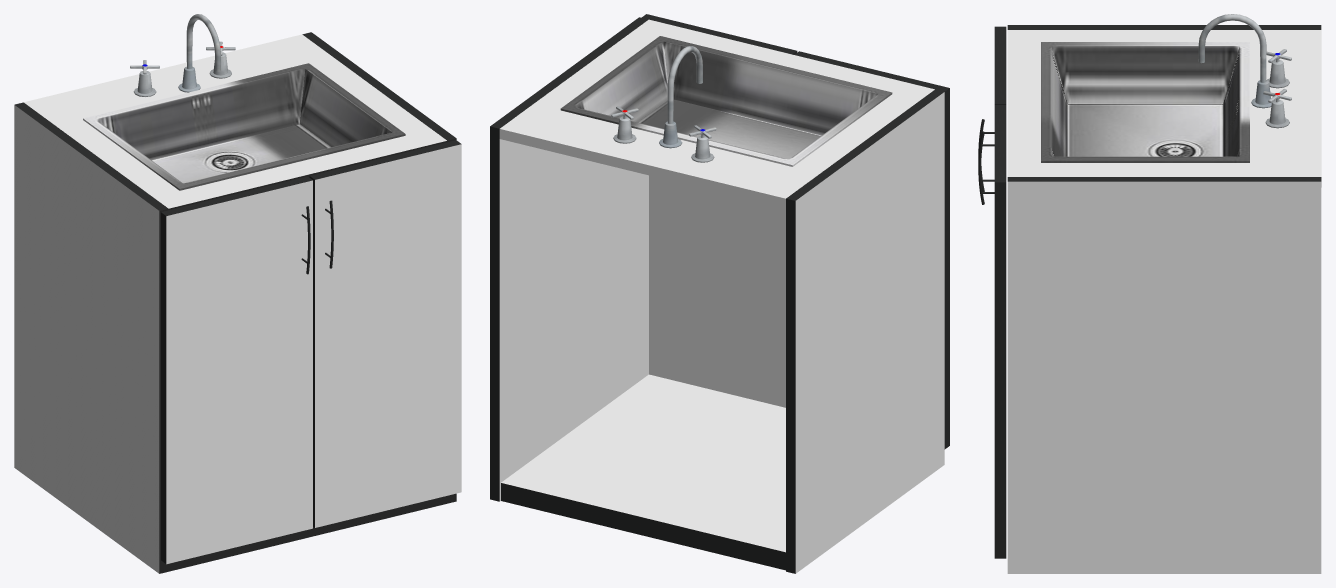
The model's file is rakovina.FBX.
The picture shows the model from 3 angles, left to right: view 1: azimuth 30°, elevation 25°; view 2: azimuth 150°, elevation 25°; view 3: azimuth 270°, elevation 25°; orthographic projection. The views are drawn at different scales.
Parts seen in each view (by area): view 1: Layer:10; view 2: Layer:10; view 3: Layer:10.
Boxes of the visible parts, x1,y1,x2,y2 form: Layer:10: (14, 14, 461, 573); Layer:10: (490, 14, 949, 573); Layer:10: (978, 14, 1321, 573).
Bounding box in the file's own units: 600 × 859 × 555.
